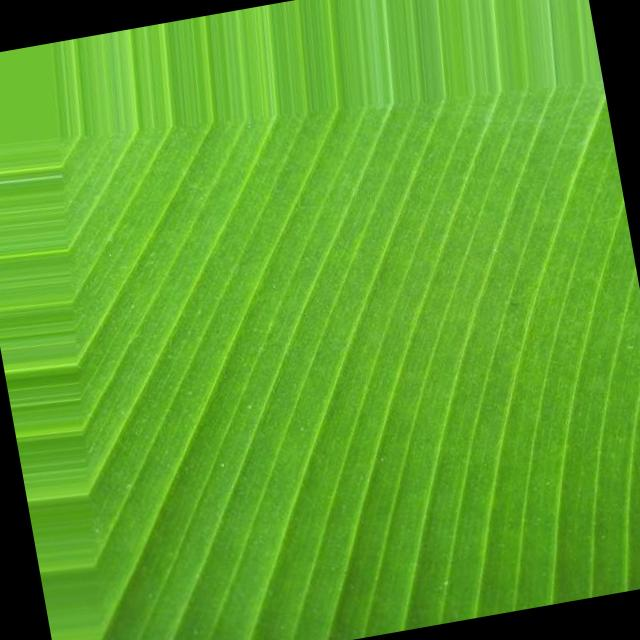Banana_Healthy: (148, 130, 602, 594)
